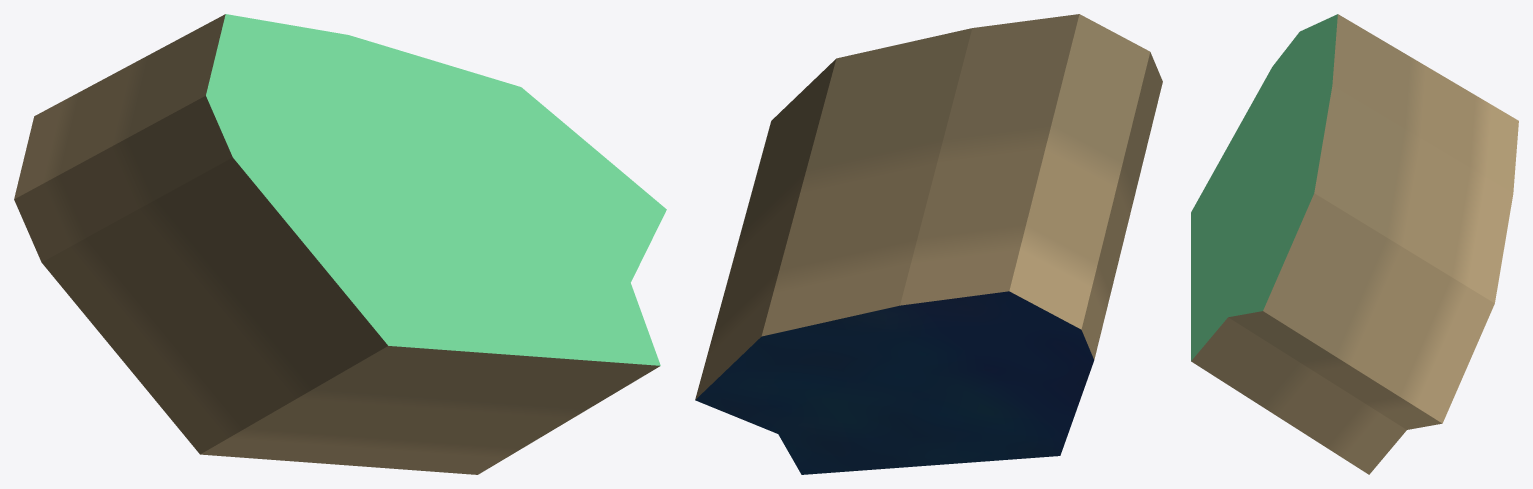
File: 067f_Hungary.glb
3 renders of one model, left to right at view 1: azimuth 30°, elevation 25°; view 2: azimuth 150°, elevation 25°; view 3: azimuth 270°, elevation 25°, orthographic. The views are drawn at different scales.
Visible parts, largest first — view 1: part_0; view 2: part_0; view 3: part_0.
Part boxes in pixels (x1,y1,x2,y2): part_0: (14,14,666,474); part_0: (695,14,1162,474); part_0: (1191,14,1518,474).
Size of the model in its own units: 0.3319 by 0.3506 by 0.2818.
1 material, 1 textured.
